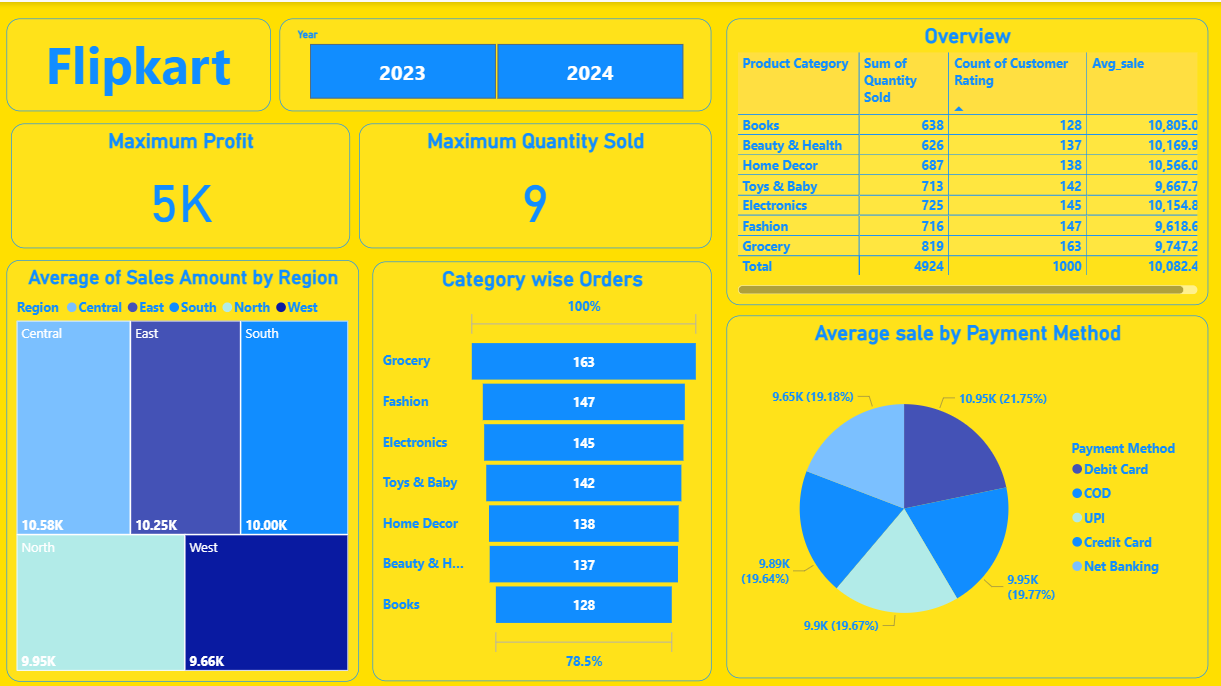

The page's visual inventory and layout, read from the dashboard file:
{"tool":"powerbi","page":{"name":"Average Sales Analysis","canvas":[1280,720],"ordinal":0},"visuals":[{"type":"card","title":"Maximum Profit","fields":{"Values":["Max(Flipkart_Sales_Data.Profit)"]},"box":[15.6,126.6,353.2,129.7],"z":2000},{"type":"card","title":"Maximum Quantity Sold","fields":{"Values":["Max(Flipkart_Sales_Data.Quantity Sold)"]},"box":[378.2,126.6,367.3,129.7],"z":3000},{"type":"textbox","box":[10.9,17.2,275.1,96.9],"z":5000},{"type":"treemap","fields":{"Group":["Flipkart_Sales_Data.Region"],"Values":["Avg(Flipkart_Sales_Data.Sales Amount)"]},"box":[10.9,268.8,367.3,439.2],"z":6000},{"type":"pieChart","title":"Average sale by Payment Method","fields":{"Category":["Flipkart_Sales_Data.Payment Method"],"Y":["Flipkart_Sales_Data.Avg_sale"]},"box":[761.2,326.7,501.7,378.2],"z":7000},{"type":"funnel","title":"Category wise Orders","fields":{"Category":["Flipkart_Sales_Data.Product Category"],"Y":["CountNonNull(Flipkart_Sales_Data.Order ID)"]},"box":[392.3,270.4,353.2,437.6],"z":8000},{"type":"tableEx","title":"Overview","fields":{"Values":["Flipkart_Sales_Data.Product Category","Sum(Flipkart_Sales_Data.Quantity Sold)","CountNonNull(Flipkart_Sales_Data.Customer Rating)","Flipkart_Sales_Data.Avg_sale"]},"box":[761.2,17.2,501.7,298.5],"z":9000},{"type":"slicer","fields":{"Values":["Flipkart_Sales_Data.Order Date.Variation.Date Hierarchy.Year"]},"box":[295.4,17.2,450.1,96.9],"z":10000}]}

Visuals, with their boxes in screenshot pixels (x1, y1, x2, y2), scaled from the page's 1280x720 canvas onto the 1221x686 screenshot:
"Maximum Profit" card: pyautogui.locateOnScreen(15, 121, 352, 244)
"Maximum Quantity Sold" card: pyautogui.locateOnScreen(361, 121, 711, 244)
textbox: pyautogui.locateOnScreen(10, 16, 273, 109)
treemap - Flipkart_Sales_Data.Region x Avg(Flipkart_Sales_Data.Sales Amount): pyautogui.locateOnScreen(10, 256, 361, 675)
"Average sale by Payment Method" pieChart: pyautogui.locateOnScreen(726, 311, 1205, 672)
"Category wise Orders" funnel: pyautogui.locateOnScreen(374, 258, 711, 675)
"Overview" tableEx: pyautogui.locateOnScreen(726, 16, 1205, 301)
slicer - Flipkart_Sales_Data.Order Date.Variation.Date Hierarchy.Year: pyautogui.locateOnScreen(282, 16, 711, 109)
